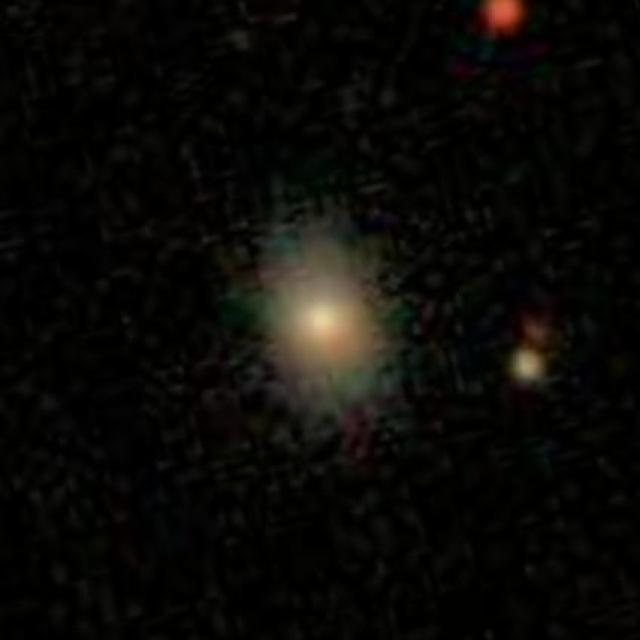galaxy: (204, 165, 458, 476), (502, 344, 552, 393), (478, 1, 529, 39), (518, 313, 557, 351)
